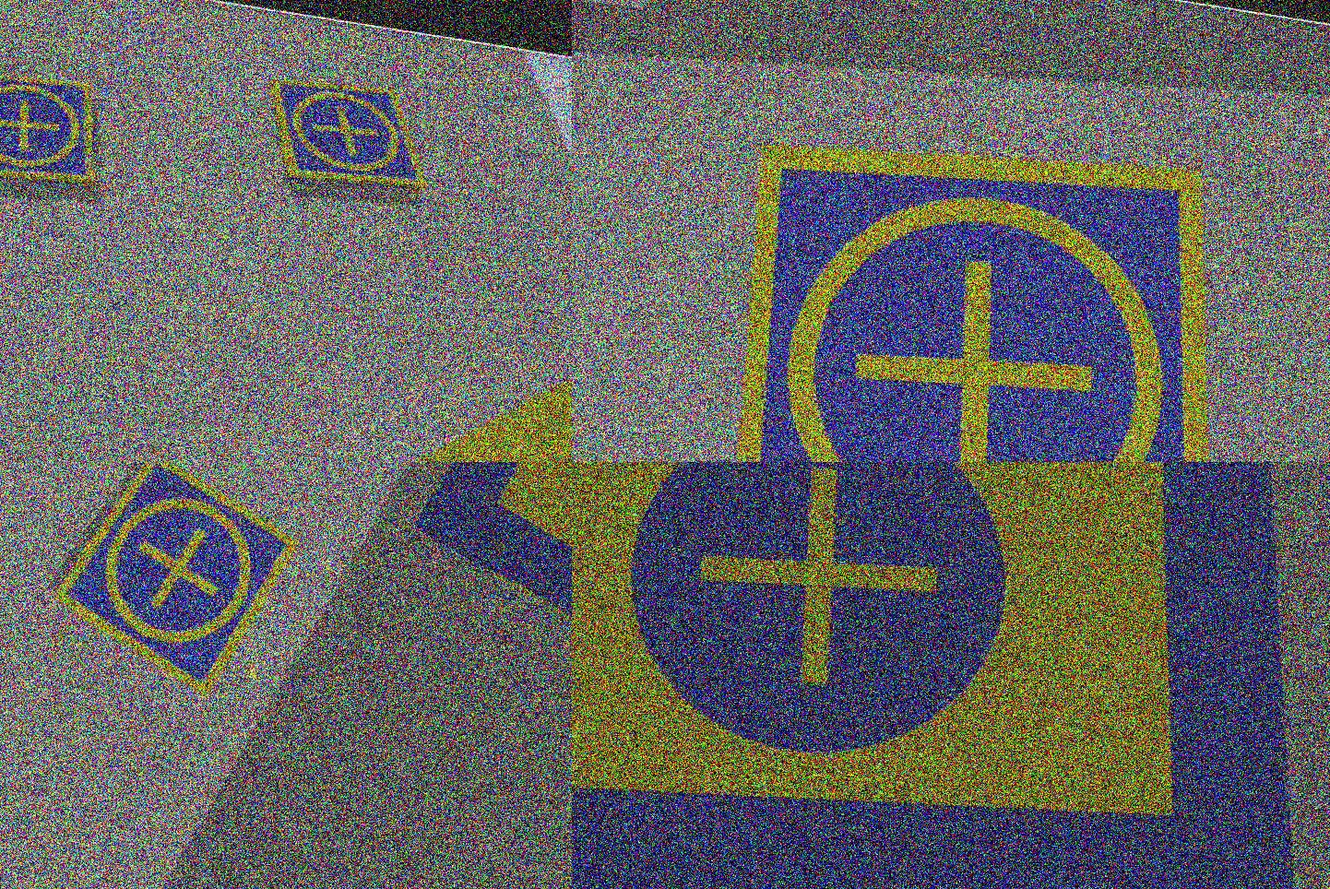large_base: (573, 462, 1330, 889), (388, 462, 573, 735)
small_base: (692, 101, 1281, 462), (36, 462, 311, 705), (256, 70, 440, 205), (1, 63, 114, 197)
